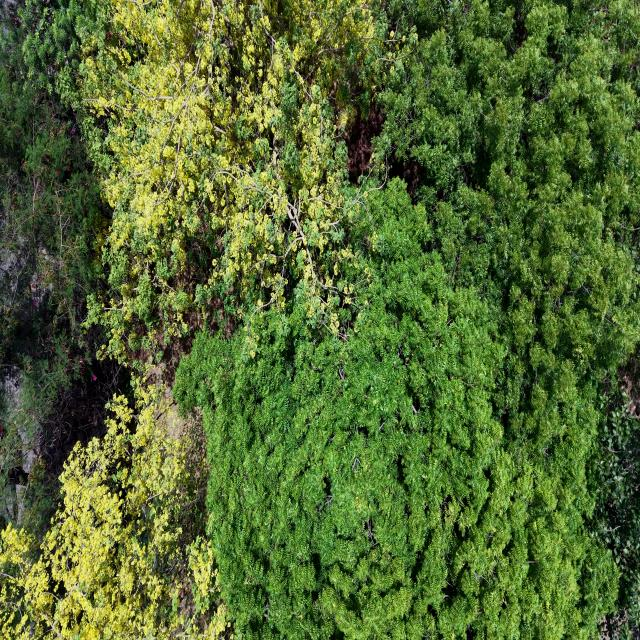VEGETATION_TREE: (0, 0, 639, 639), (174, 2, 639, 637), (175, 179, 615, 637), (78, 0, 378, 365), (0, 2, 120, 520), (0, 385, 230, 639), (590, 346, 639, 639)
